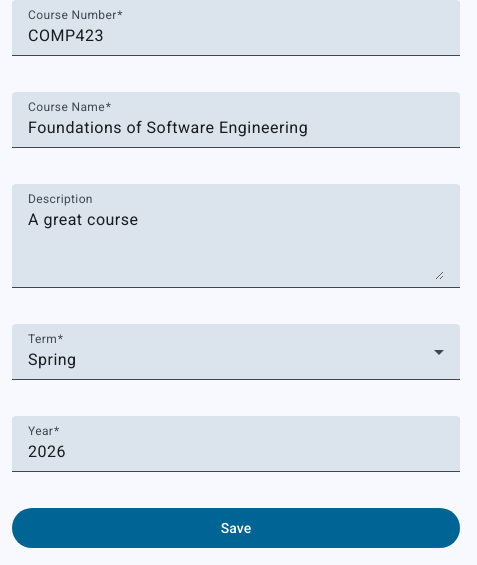
Test: Settings › should show saving state during submission
The image size is (477, 565).
Step 1. Click the submit button → (236, 528), box 12,508 -> 460,548
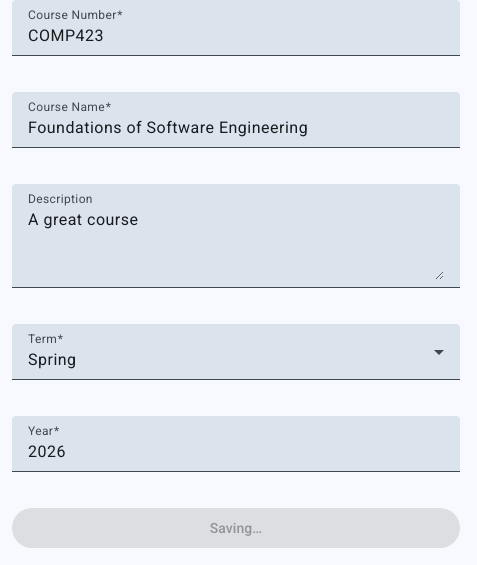
Expected: the submit button shows "Saving", 12,508 -> 460,548
Expected: the submit button is disabled, 12,508 -> 460,548
